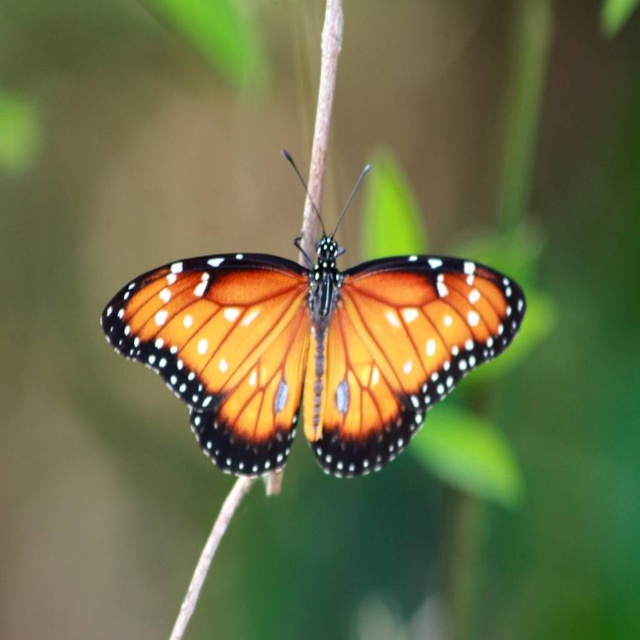Butterfly: (99, 152, 530, 477)
